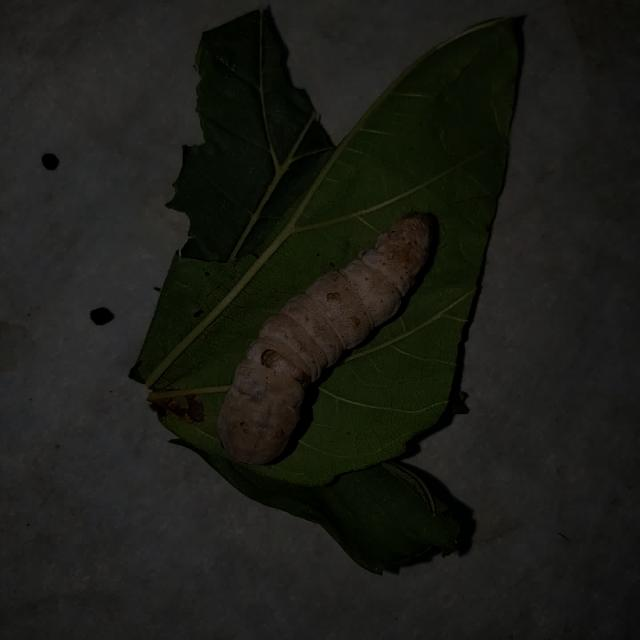Grasserie: (214, 193, 439, 484)
